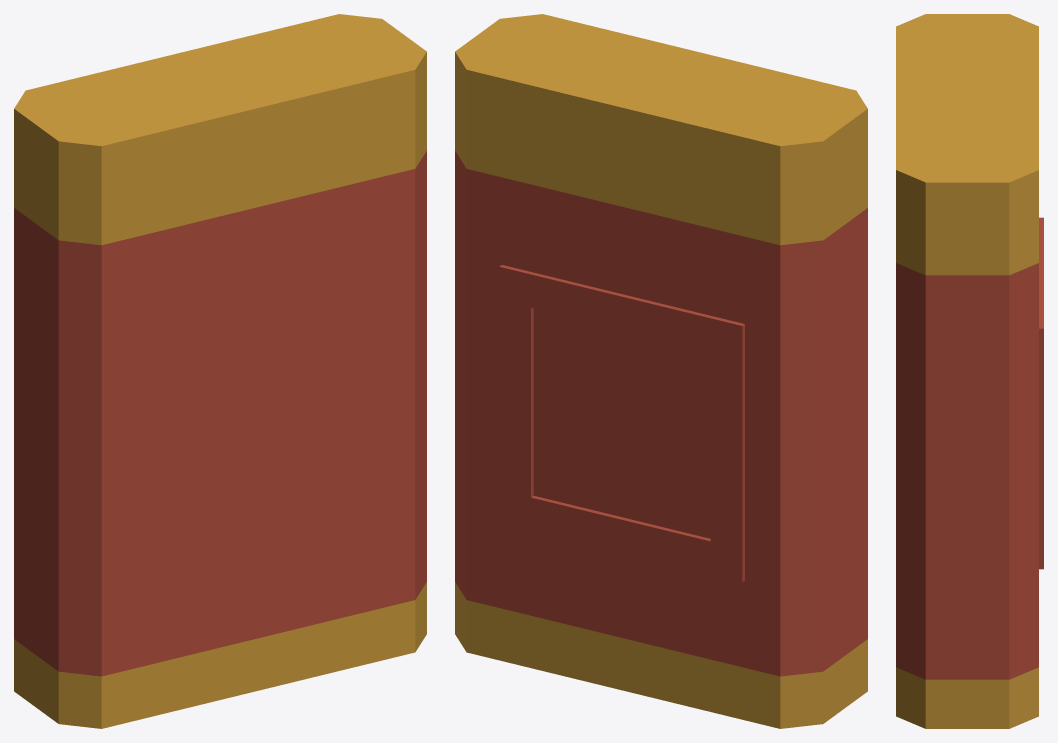
Rendered from SM_LPI_Food_CerealBox_01.fbx.
3 views of the same model, side by side, from view 1: azimuth 30°, elevation 25°; view 2: azimuth 150°, elevation 25°; view 3: azimuth 270°, elevation 25° (orthographic). The views are drawn at different scales.
Visible parts, largest first — view 1: SM_LPI_Food_CerealBox_01; view 2: SM_LPI_Food_CerealBox_01; view 3: SM_LPI_Food_CerealBox_01.
Part boxes in pixels (x1,y1,x2,y2): SM_LPI_Food_CerealBox_01: (14, 14, 426, 728); SM_LPI_Food_CerealBox_01: (455, 14, 867, 728); SM_LPI_Food_CerealBox_01: (896, 14, 1043, 728).
Size of the model in its own units: 0.162 by 0.245 by 0.06.
